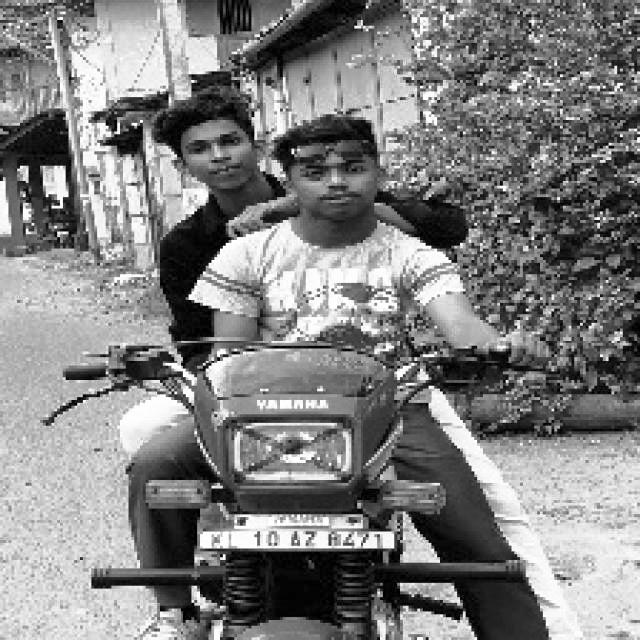Bike: (117, 323, 455, 639)
